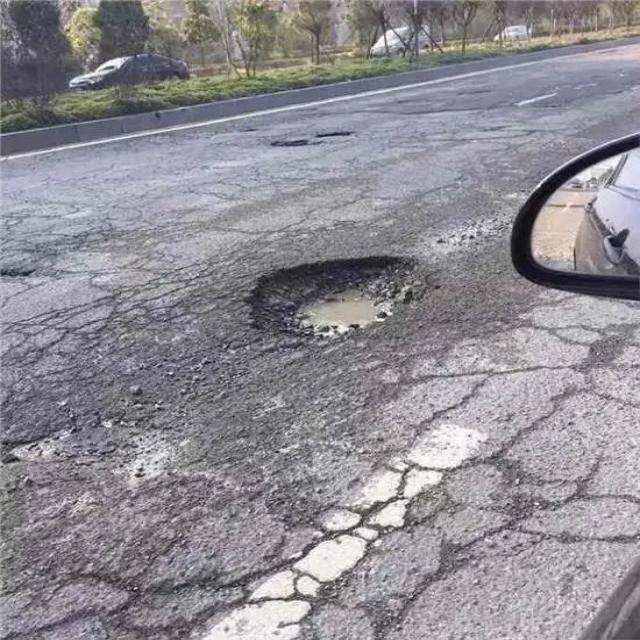Pothole: (229, 254, 438, 340), (8, 419, 163, 483), (268, 128, 350, 148), (6, 259, 38, 287)
